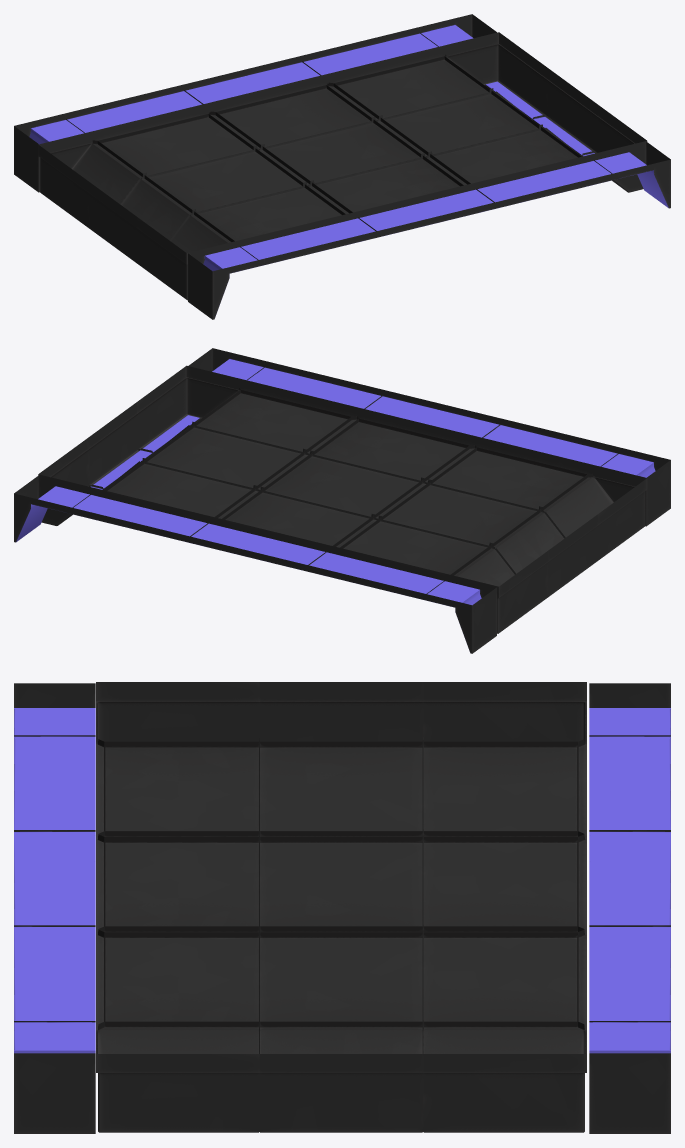
Rendered from cellingvariaton.fbx.
3 renders of one model, top to bottom at view 1: azimuth 30°, elevation 25°; view 2: azimuth 150°, elevation 25°; view 3: azimuth 270°, elevation 25°, orthographic. The views are drawn at different scales.
Visible parts, largest first — view 1: Object015, Object003, Object014, Object013, Object001, Object002, Object012, Object010, Object017, Object008, Object022, Object019 (+3 smaller); view 2: Object013, Object002, Object014, Object015, Object001, Object003, Object008, Object010, Object022, Object012, Object017, Object020 (+3 smaller); view 3: Object001, Object002, Object003, Object014, Object015, Object013, Object019, Object020, Object010, Object008, Object012, Object017 (+3 smaller).
Part boxes in pixels (<box>): Object015: <box>38,103,253,227</box>; Object003: <box>327,32,548,120</box>; Object014: <box>87,146,302,263</box>; Object013: <box>137,182,357,300</box>; Object001: <box>377,68,597,156</box>; Object002: <box>426,105,647,192</box>; Object012: <box>209,74,371,149</box>; Object010: <box>259,117,421,184</box>; Object017: <box>188,217,382,319</box>; Object008: <box>308,153,475,217</box>; Object022: <box>14,84,203,192</box>; Object019: <box>477,141,670,208</box>; Object013: <box>432,436,647,561</box>; Object002: <box>137,365,357,454</box>; Object014: <box>382,479,597,597</box>; Object015: <box>327,515,548,633</box>; Object001: <box>87,402,308,489</box>; Object003: <box>38,438,258,525</box>; Object008: <box>314,407,475,482</box>; Object010: <box>264,450,426,518</box>; Object022: <box>302,551,496,653</box>; Object012: <box>209,486,376,552</box>; Object017: <box>482,418,670,526</box>; Object020: <box>14,475,207,542</box>; Object001: <box>259,928,423,1132</box>; Object002: <box>96,928,259,1132</box>; Object003: <box>423,929,586,1132</box>; Object014: <box>259,682,423,836</box>; Object015: <box>423,682,586,839</box>; Object013: <box>96,682,259,839</box>; Object019: <box>14,925,95,1133</box>; Object020: <box>589,925,670,1133</box>; Object010: <box>259,832,423,931</box>; Object008: <box>96,833,259,934</box>; Object012: <box>423,834,586,934</box>; Object017: <box>14,683,95,829</box>.
Bounding box in the file's own units: 423 × 42.94 × 316.
1 material, 1 textured.
